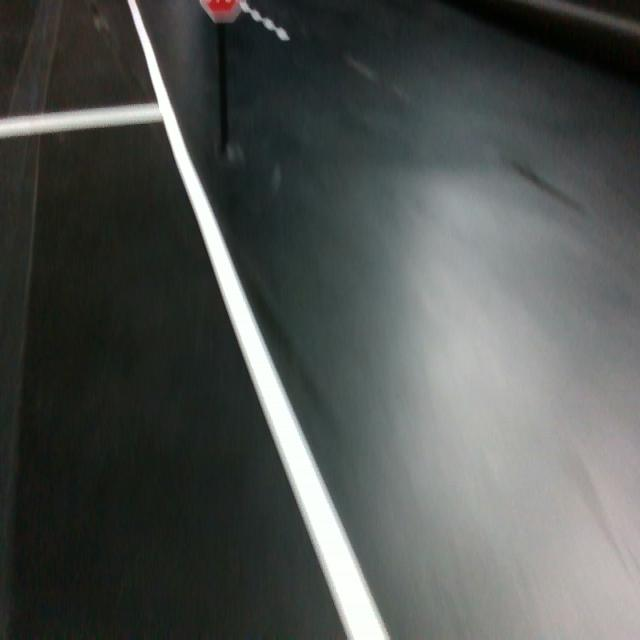stop-sign: (198, 0, 245, 24)
